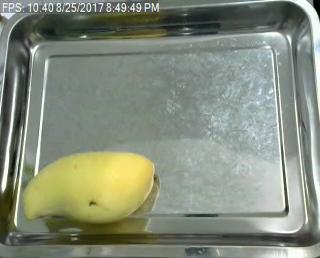Mango: (23, 144, 158, 232)
